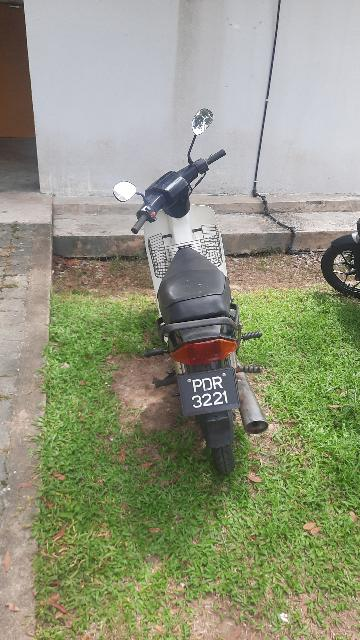License_Plate: (177, 371, 244, 417)
motorcycle: (89, 98, 316, 486)
